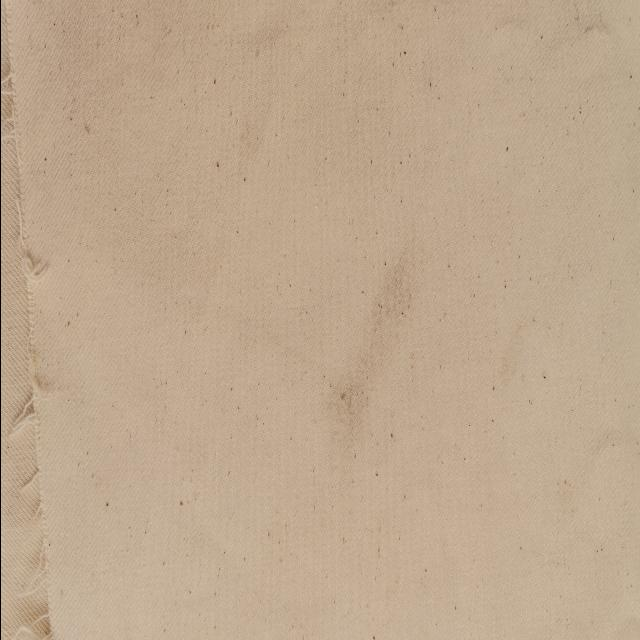taaaches: (308, 243, 422, 485)
